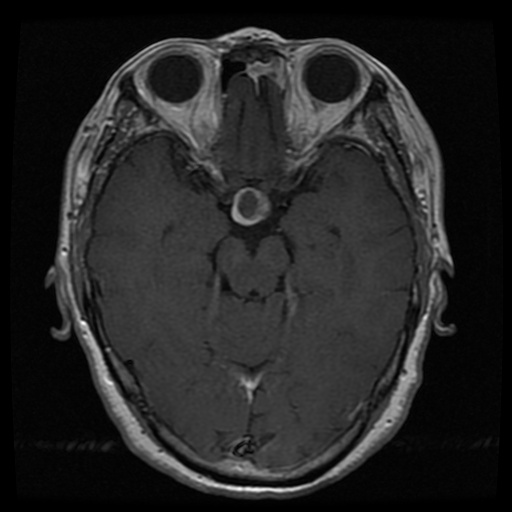pituitary: (231, 186, 272, 226)
